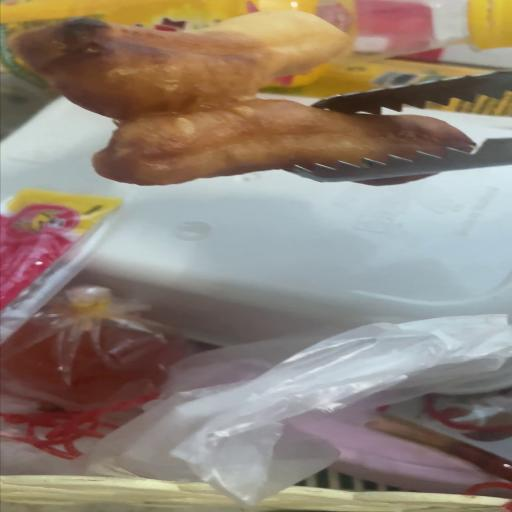street_burnt_good: (12, 12, 477, 185)
